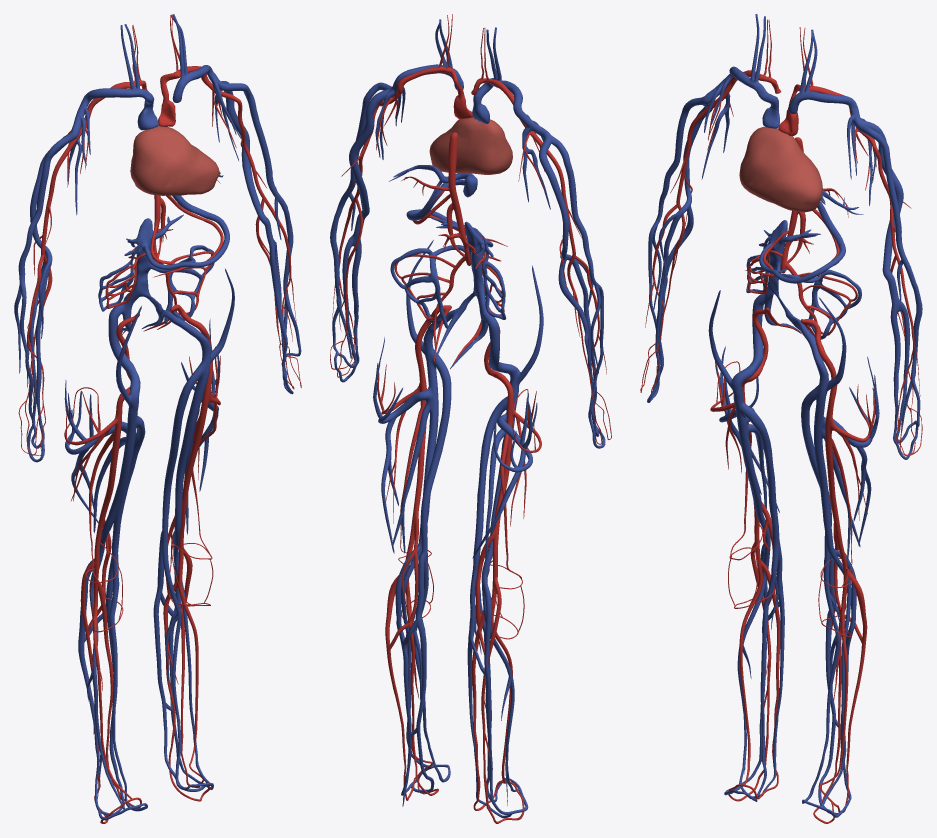
The model's file is pediatric_child_5y_female.cardiovascular.LOD0.glb.
3 views of the same model, side by side, from view 1: azimuth 30°, elevation 25°; view 2: azimuth 150°, elevation 25°; view 3: azimuth 330°, elevation 25° (orthographic).
Parts seen in each view (by area): view 1: PEDIATRIC.CHILD_5Y.FEMALE.CARDIOVASCULAR.BLOOD_IN_LARGE_VEIN, PEDIATRIC.CHILD_5Y.FEMALE.CARDIOVASCULAR.BLOOD_IN_LARGE_ARTE, PEDIATRIC.CHILD_5Y.FEMALE.CARDIOVASCULAR.HEART_WALL; view 2: PEDIATRIC.CHILD_5Y.FEMALE.CARDIOVASCULAR.BLOOD_IN_LARGE_VEIN, PEDIATRIC.CHILD_5Y.FEMALE.CARDIOVASCULAR.BLOOD_IN_LARGE_ARTE, PEDIATRIC.CHILD_5Y.FEMALE.CARDIOVASCULAR.HEART_WALL; view 3: PEDIATRIC.CHILD_5Y.FEMALE.CARDIOVASCULAR.BLOOD_IN_LARGE_VEIN, PEDIATRIC.CHILD_5Y.FEMALE.CARDIOVASCULAR.BLOOD_IN_LARGE_ARTE, PEDIATRIC.CHILD_5Y.FEMALE.CARDIOVASCULAR.HEART_WALL.
Part boxes in pixels (<box>): PEDIATRIC.CHILD_5Y.FEMALE.CARDIOVASCULAR.BLOOD_IN_LARGE_VEIN: <box>14,14,301,820</box>; PEDIATRIC.CHILD_5Y.FEMALE.CARDIOVASCULAR.BLOOD_IN_LARGE_ARTE: <box>18,14,301,823</box>; PEDIATRIC.CHILD_5Y.FEMALE.CARDIOVASCULAR.HEART_WALL: <box>130,125,219,195</box>; PEDIATRIC.CHILD_5Y.FEMALE.CARDIOVASCULAR.BLOOD_IN_LARGE_VEIN: <box>330,19,605,818</box>; PEDIATRIC.CHILD_5Y.FEMALE.CARDIOVASCULAR.BLOOD_IN_LARGE_ARTE: <box>330,14,611,823</box>; PEDIATRIC.CHILD_5Y.FEMALE.CARDIOVASCULAR.HEART_WALL: <box>429,117,512,174</box>; PEDIATRIC.CHILD_5Y.FEMALE.CARDIOVASCULAR.BLOOD_IN_LARGE_VEIN: <box>647,14,922,817</box>; PEDIATRIC.CHILD_5Y.FEMALE.CARDIOVASCULAR.BLOOD_IN_LARGE_ARTE: <box>640,19,922,823</box>; PEDIATRIC.CHILD_5Y.FEMALE.CARDIOVASCULAR.HEART_WALL: <box>739,126,822,212</box>.
Size of the model in its own units: 0.3473 by 0.9466 by 0.1172.
